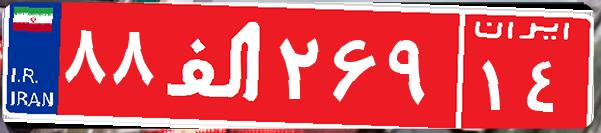1: (475, 38, 525, 113)
2: (273, 28, 330, 110)
4: (525, 38, 570, 115)
6: (330, 28, 385, 110)
8: (57, 26, 110, 107), (110, 28, 158, 105)
9: (385, 28, 445, 110)
الف: (158, 15, 273, 115)
